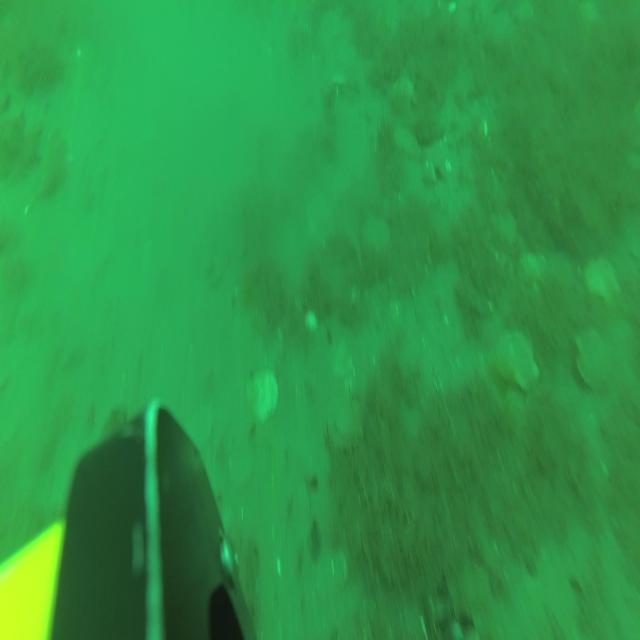scallop: (492, 328, 542, 394), (572, 323, 616, 392), (245, 368, 281, 426), (584, 252, 623, 301), (488, 202, 520, 251), (361, 211, 393, 254), (392, 120, 422, 159)
